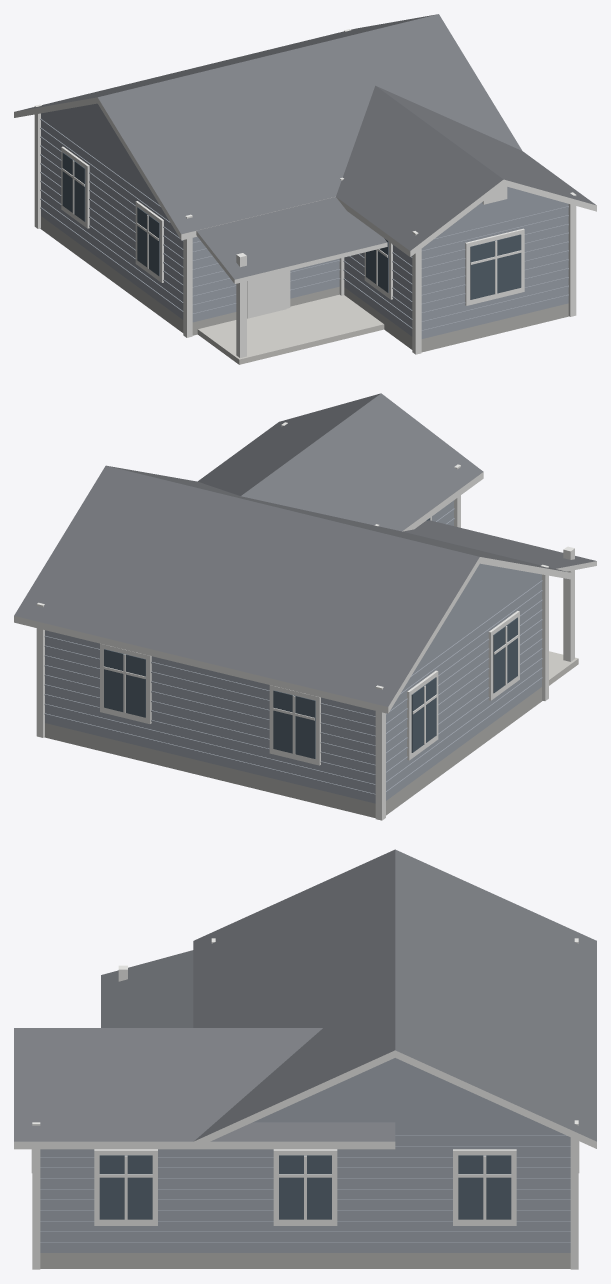
File: lodi-cottage.glb
3 views of the same model, one above another, from view 1: azimuth 30°, elevation 25°; view 2: azimuth 150°, elevation 25°; view 3: azimuth 270°, elevation 25° (orthographic). The views are drawn at different scales.
Visible parts, largest first — view 1: The Lodi (cottage); view 2: The Lodi (cottage); view 3: The Lodi (cottage).
Part boxes in pixels (x1,y1,x2,y2): The Lodi (cottage): [14, 14, 596, 364]; The Lodi (cottage): [14, 393, 596, 820]; The Lodi (cottage): [14, 849, 596, 1269].
Bounding box in the file's own units: 8.08 × 4.27 × 9.9.
